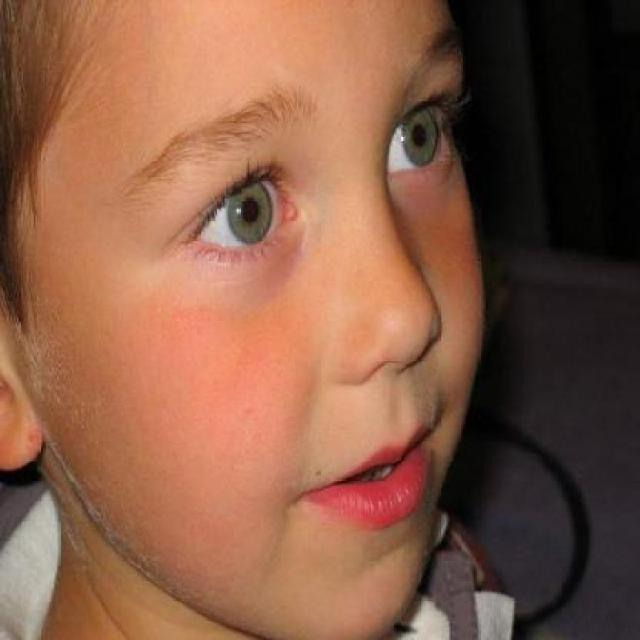awake: (189, 171, 293, 257), (387, 97, 451, 175)
